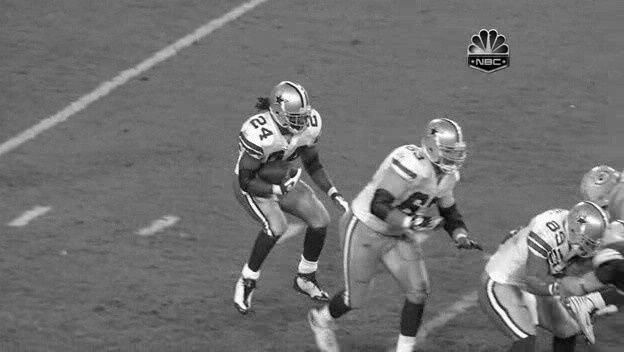person: (275, 83, 311, 129), (274, 83, 310, 129), (276, 83, 312, 129), (275, 82, 311, 128), (275, 84, 311, 130)
target_negative: (65, 16, 299, 314), (430, 10, 565, 254), (240, 180, 546, 245), (147, 55, 266, 216), (530, 303, 590, 341), (313, 338, 353, 345)
